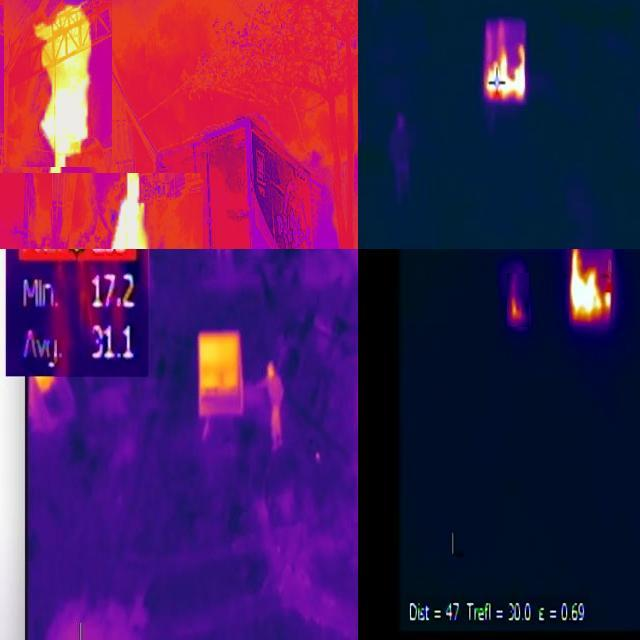fire: (39, 6, 96, 171), (570, 250, 614, 327), (484, 37, 528, 106), (115, 171, 152, 250), (197, 335, 236, 392), (508, 274, 530, 328)
